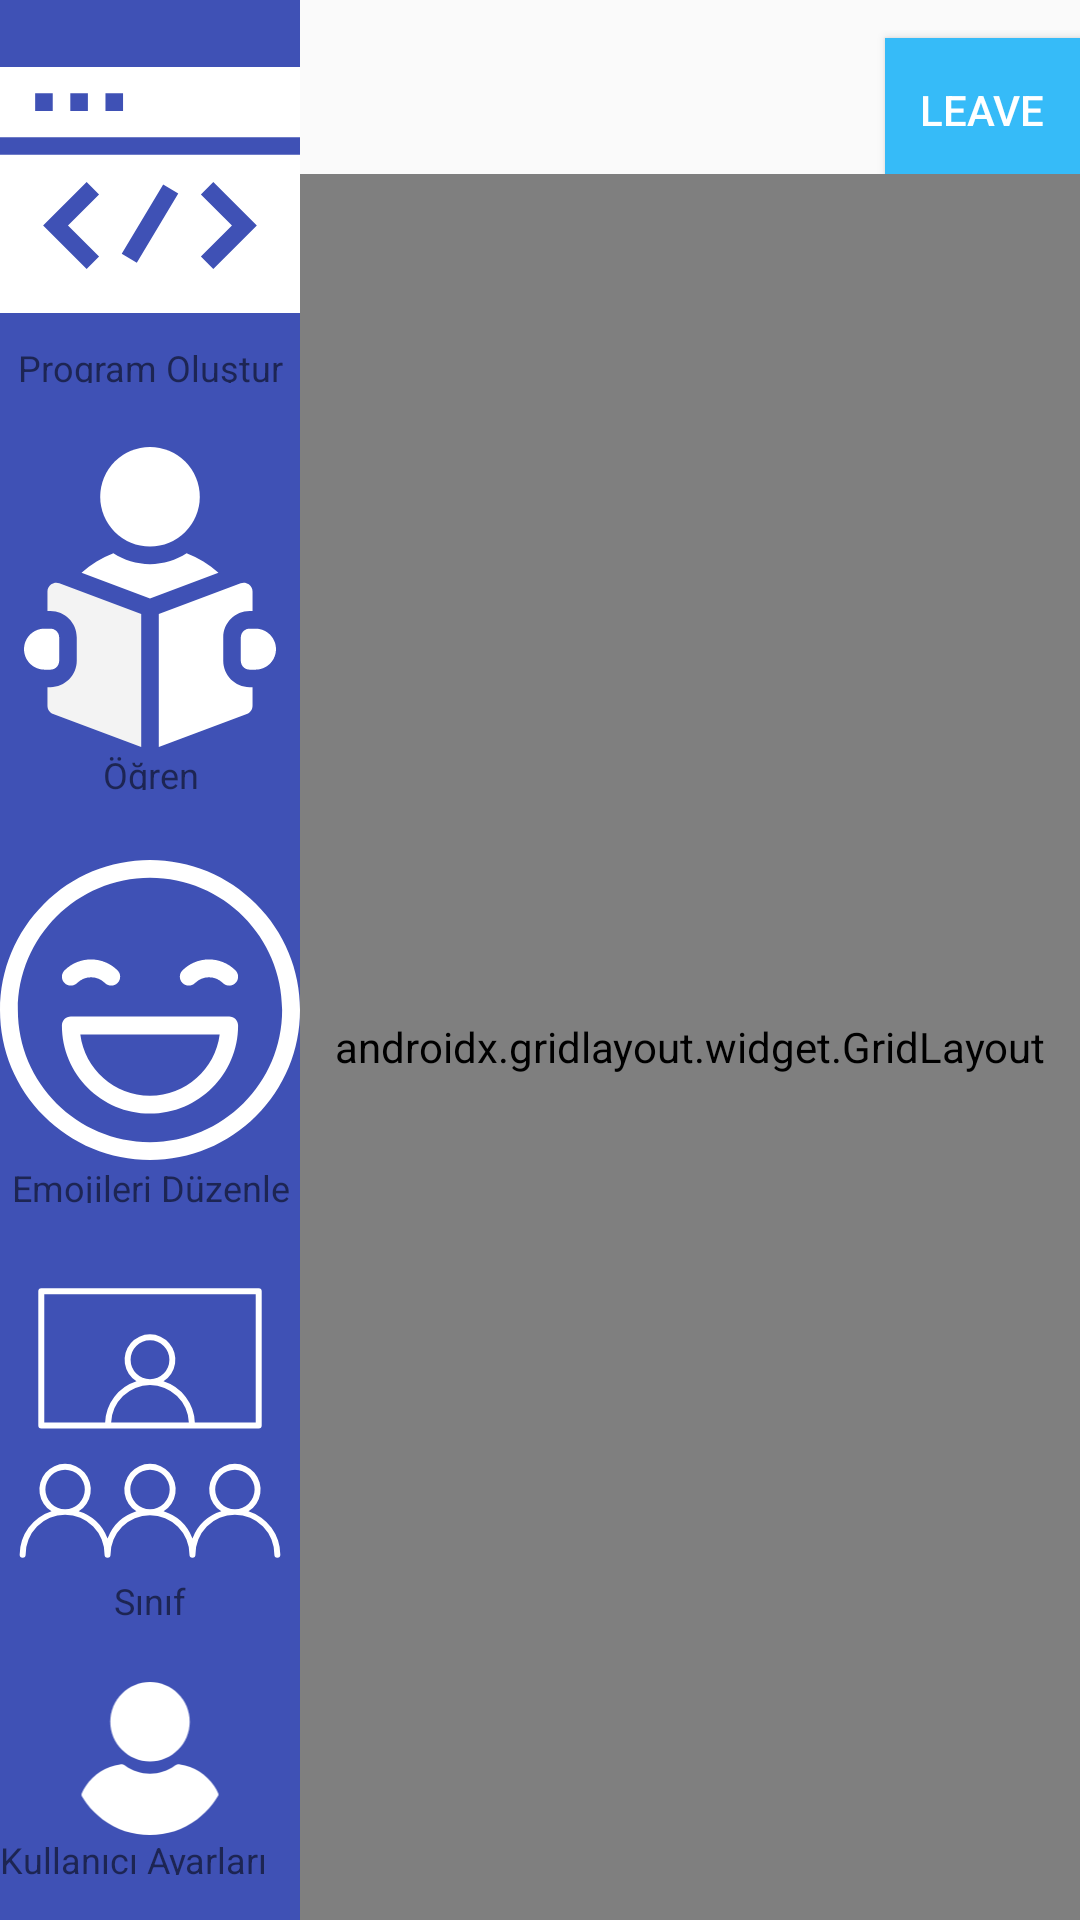

Icon bounding boxes for this 1080 × 1920 phone screenshot, format [x1=x1, y1=y1, x2=x2, y2=y2]:
coding: [x1=0, y1=67, x2=300, y2=313]
happy: [x1=0, y1=860, x2=300, y2=1160]
tutorials: [x1=24, y1=447, x2=276, y2=747]
